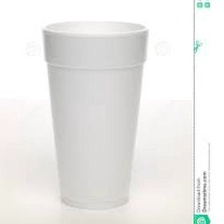paper_cup: (37, 16, 153, 213)
